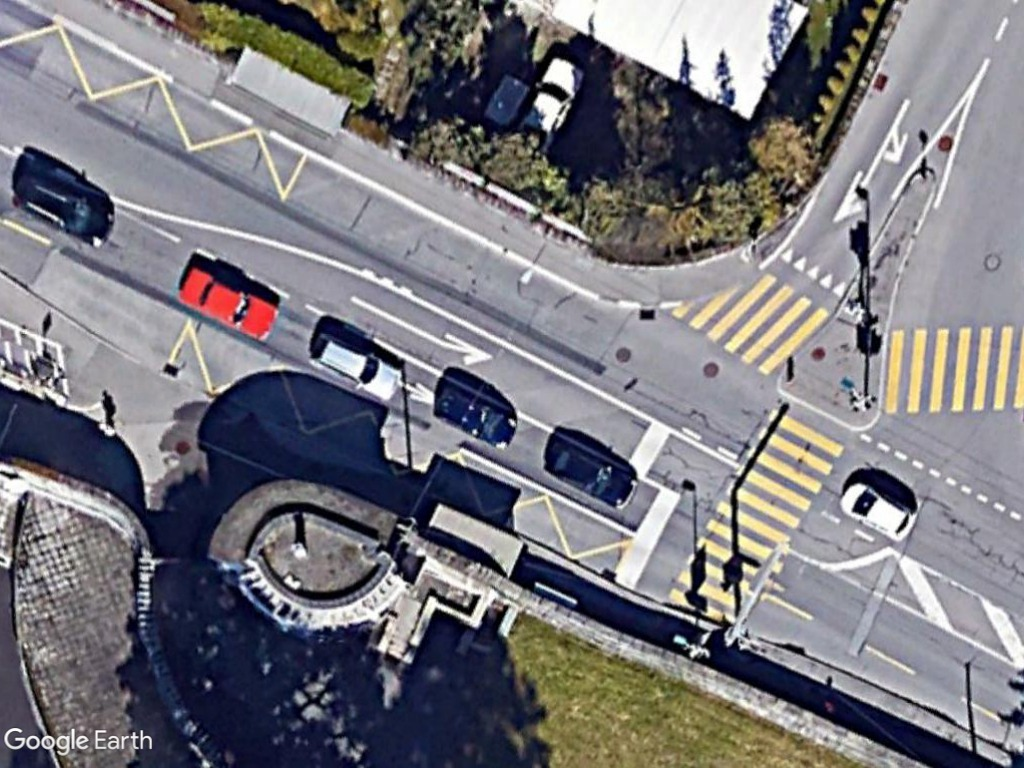car: (12, 161, 118, 251), (175, 259, 282, 347), (305, 325, 406, 402), (545, 439, 645, 513), (431, 378, 524, 455), (834, 479, 919, 545)
